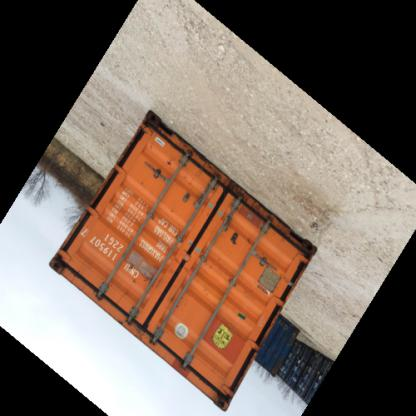Damage: (48, 247, 82, 274), (129, 312, 158, 340), (166, 276, 190, 308), (139, 112, 163, 140), (127, 267, 157, 289), (212, 384, 234, 408), (223, 232, 242, 250), (159, 156, 177, 172)
